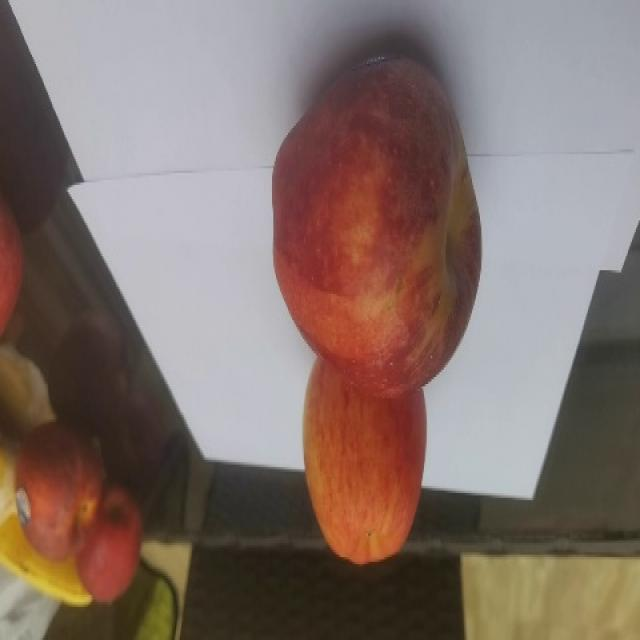Apple: (270, 52, 482, 399), (301, 355, 427, 565), (0, 195, 24, 337)
